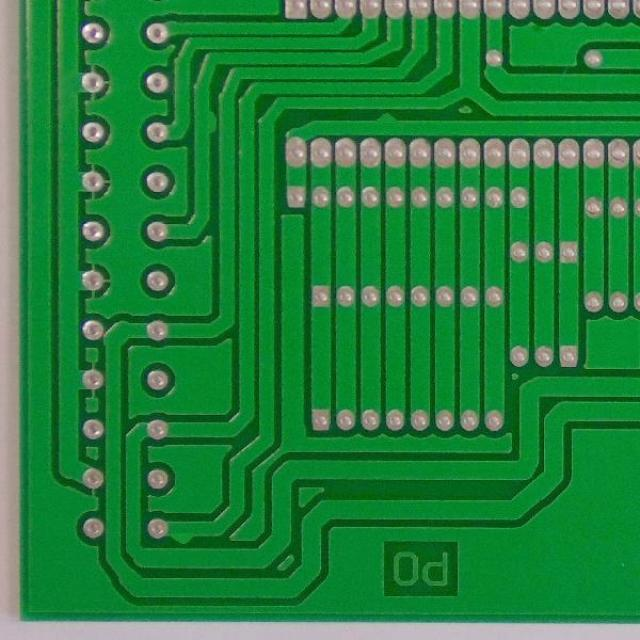spur: (200, 108, 222, 140), (167, 526, 194, 549), (368, 110, 403, 127)
